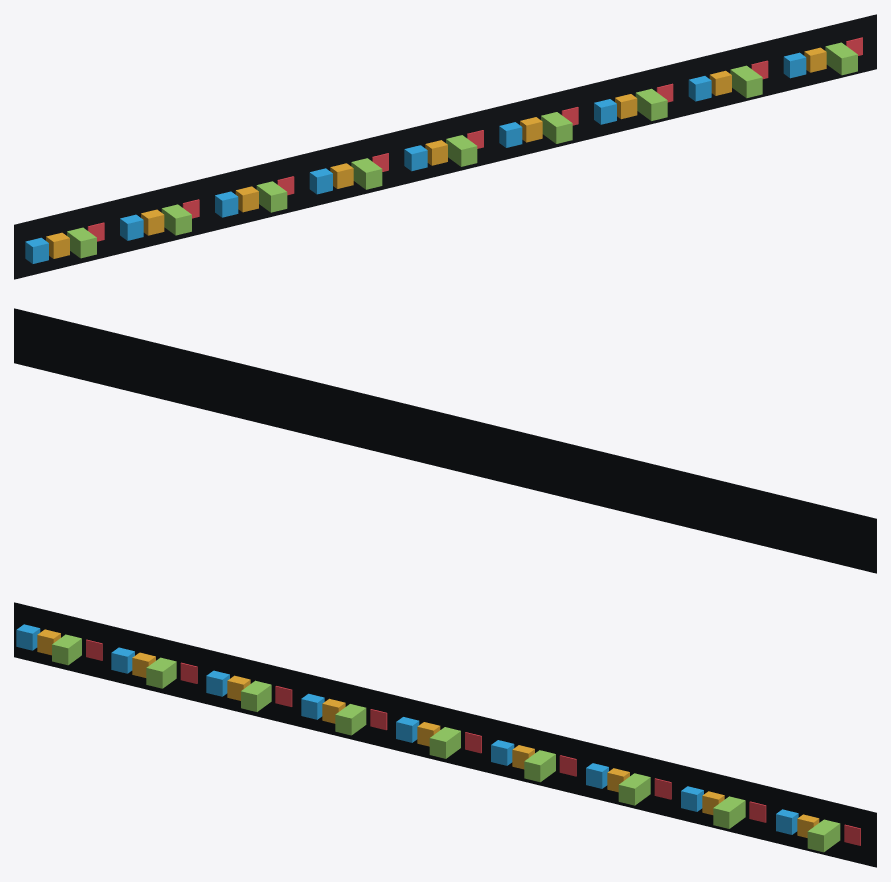
The picture shows the model from 3 angles, top to bottom: view 1: azimuth 30°, elevation 25°; view 2: azimuth 150°, elevation 25°; view 3: azimuth 330°, elevation 25°; orthographic projection.
Visible parts, largest first — view 1: floor, b34, b30, b26, b22, b18, b14, b10, b6, b2, b0, b4 (+6 smaller); view 2: floor; view 3: floor, b34, b30, b26, b22, b18, b14, b10, b6, b2, b0.
Part boxes in pixels (<box>): floor: <box>14,14,876,279</box>; b34: <box>825,42,857,75</box>; b30: <box>730,65,762,98</box>; b26: <box>635,88,667,120</box>; b22: <box>541,112,572,143</box>; b18: <box>446,135,477,166</box>; b14: <box>351,158,382,189</box>; b10: <box>256,181,287,212</box>; b6: <box>161,204,191,235</box>; b2: <box>67,227,96,258</box>; b0: <box>25,237,48,263</box>; b4: <box>120,214,143,240</box>; floor: <box>14,308,876,573</box>; floor: <box>14,602,876,867</box>; b34: <box>807,819,840,852</box>; b30: <box>713,796,745,828</box>; b26: <box>618,773,650,805</box>; b22: <box>524,750,555,782</box>; b18: <box>429,727,460,758</box>; b14: <box>335,704,366,735</box>; b10: <box>241,680,271,711</box>; b6: <box>146,657,176,688</box>; b2: <box>52,634,81,665</box>; b0: <box>16,624,40,650</box>.
Bounding box in the file's own units: 41.4 × 2.5 × 1.43.
